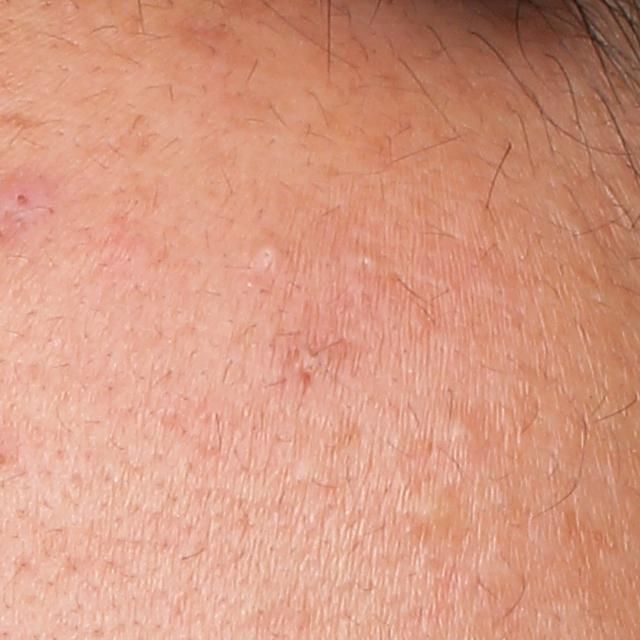comedo: (398, 484, 463, 531), (248, 236, 286, 271)
